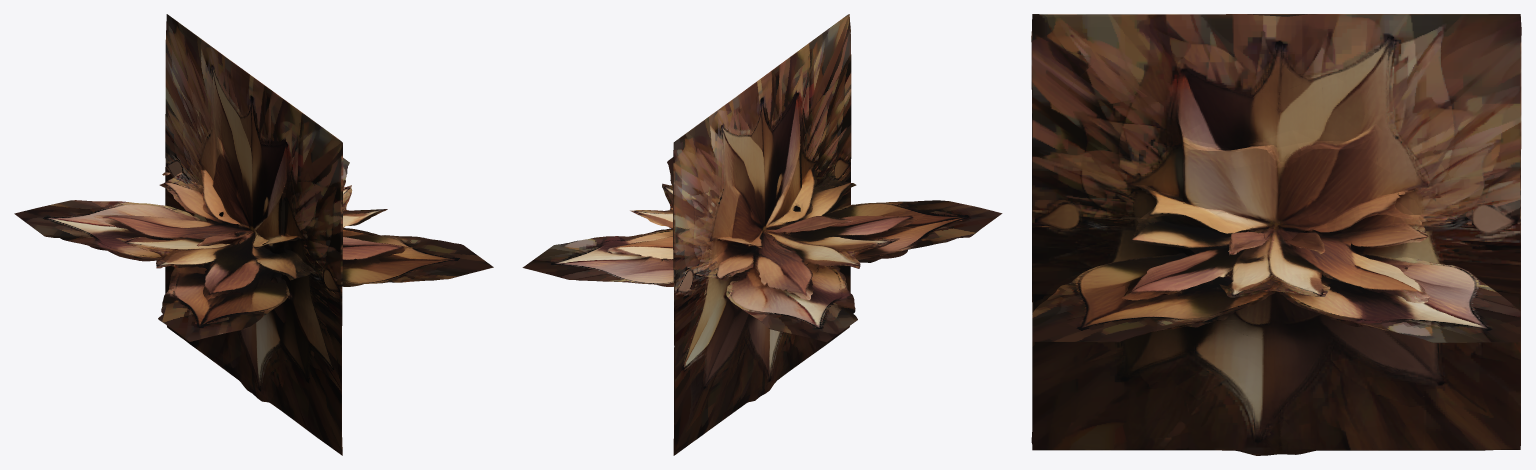
The model's file is wooden-wall-art-3d.jpeg.glb.
3 renders of one model, left to right at view 1: azimuth 30°, elevation 25°; view 2: azimuth 150°, elevation 25°; view 3: azimuth 270°, elevation 25°, orthographic. The views are drawn at different scales.
Visible parts, largest first — view 1: world; view 2: world; view 3: world.
Boxes of the visible parts, x1,y1,x2,y2 form: world: (14, 14, 493, 455); world: (522, 14, 1002, 455); world: (1031, 14, 1521, 455).
Size of the model in its own units: 1 by 0.9983 by 1.
Materials: 1 (1 with a texture image).
